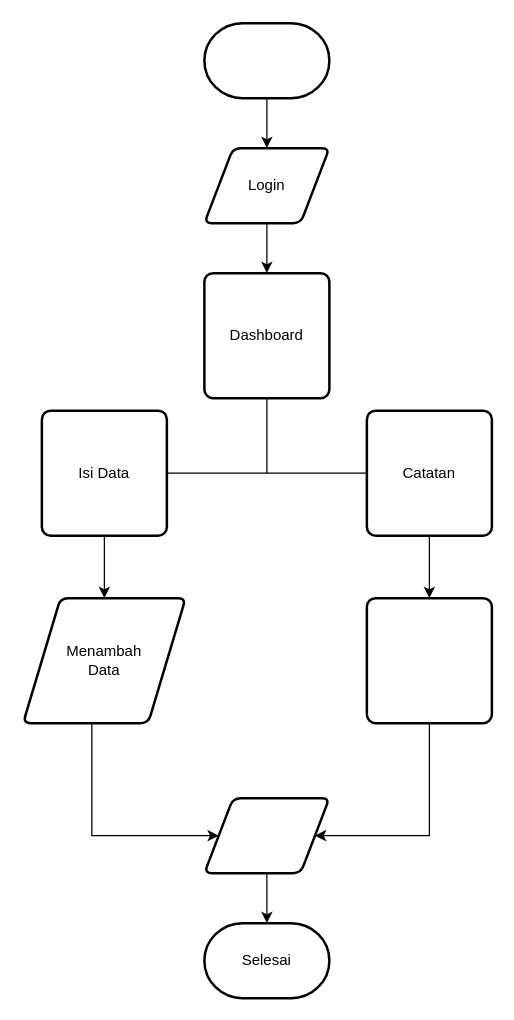
Image size: 514x1020. Some labels were removed from this diagram. Here are the shapes that lost their labels. From the top down, the centre of each, then its label:
point 266,60: Mulai
point 428,660: Menampilkan Data Catatan
point 266,835: Logout
